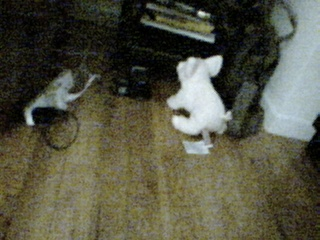piggy: (165, 53, 234, 138)
